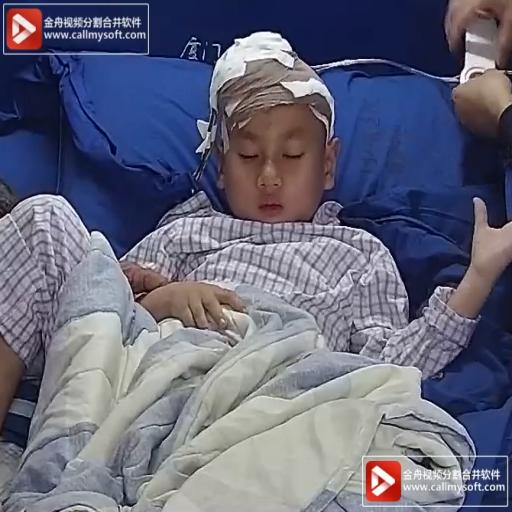Seizure: (204, 45, 352, 230)
